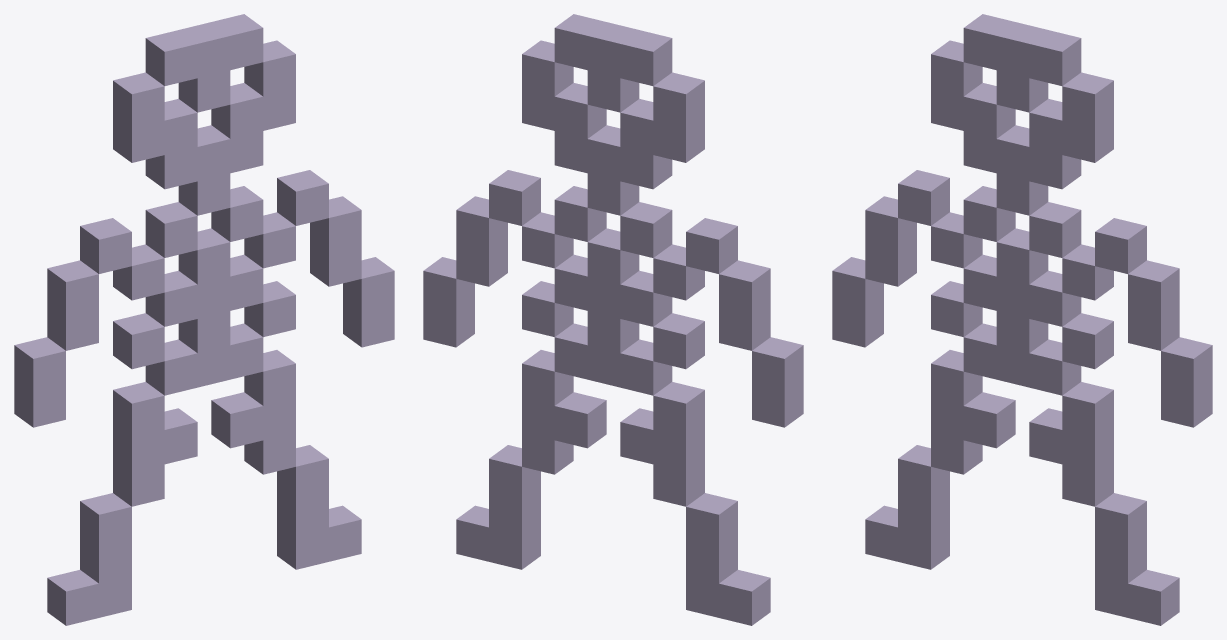
Rendered from Skeleton-Grey.vox.obj.
3 views of the same model, side by side, from view 1: azimuth 30°, elevation 25°; view 2: azimuth 150°, elevation 25°; view 3: azimuth 330°, elevation 25° (orthographic).
Bounding box in the file's own units: 1.1 × 1.6 × 0.1.
1 material, 1 textured.
